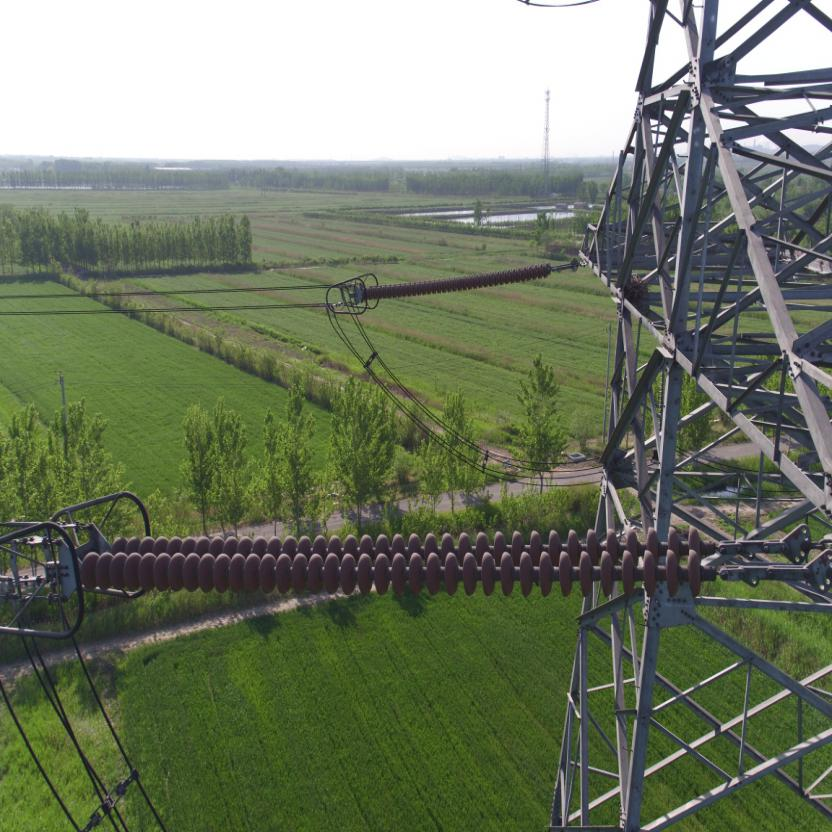insulator: (73, 517, 726, 598), (358, 257, 556, 302)
